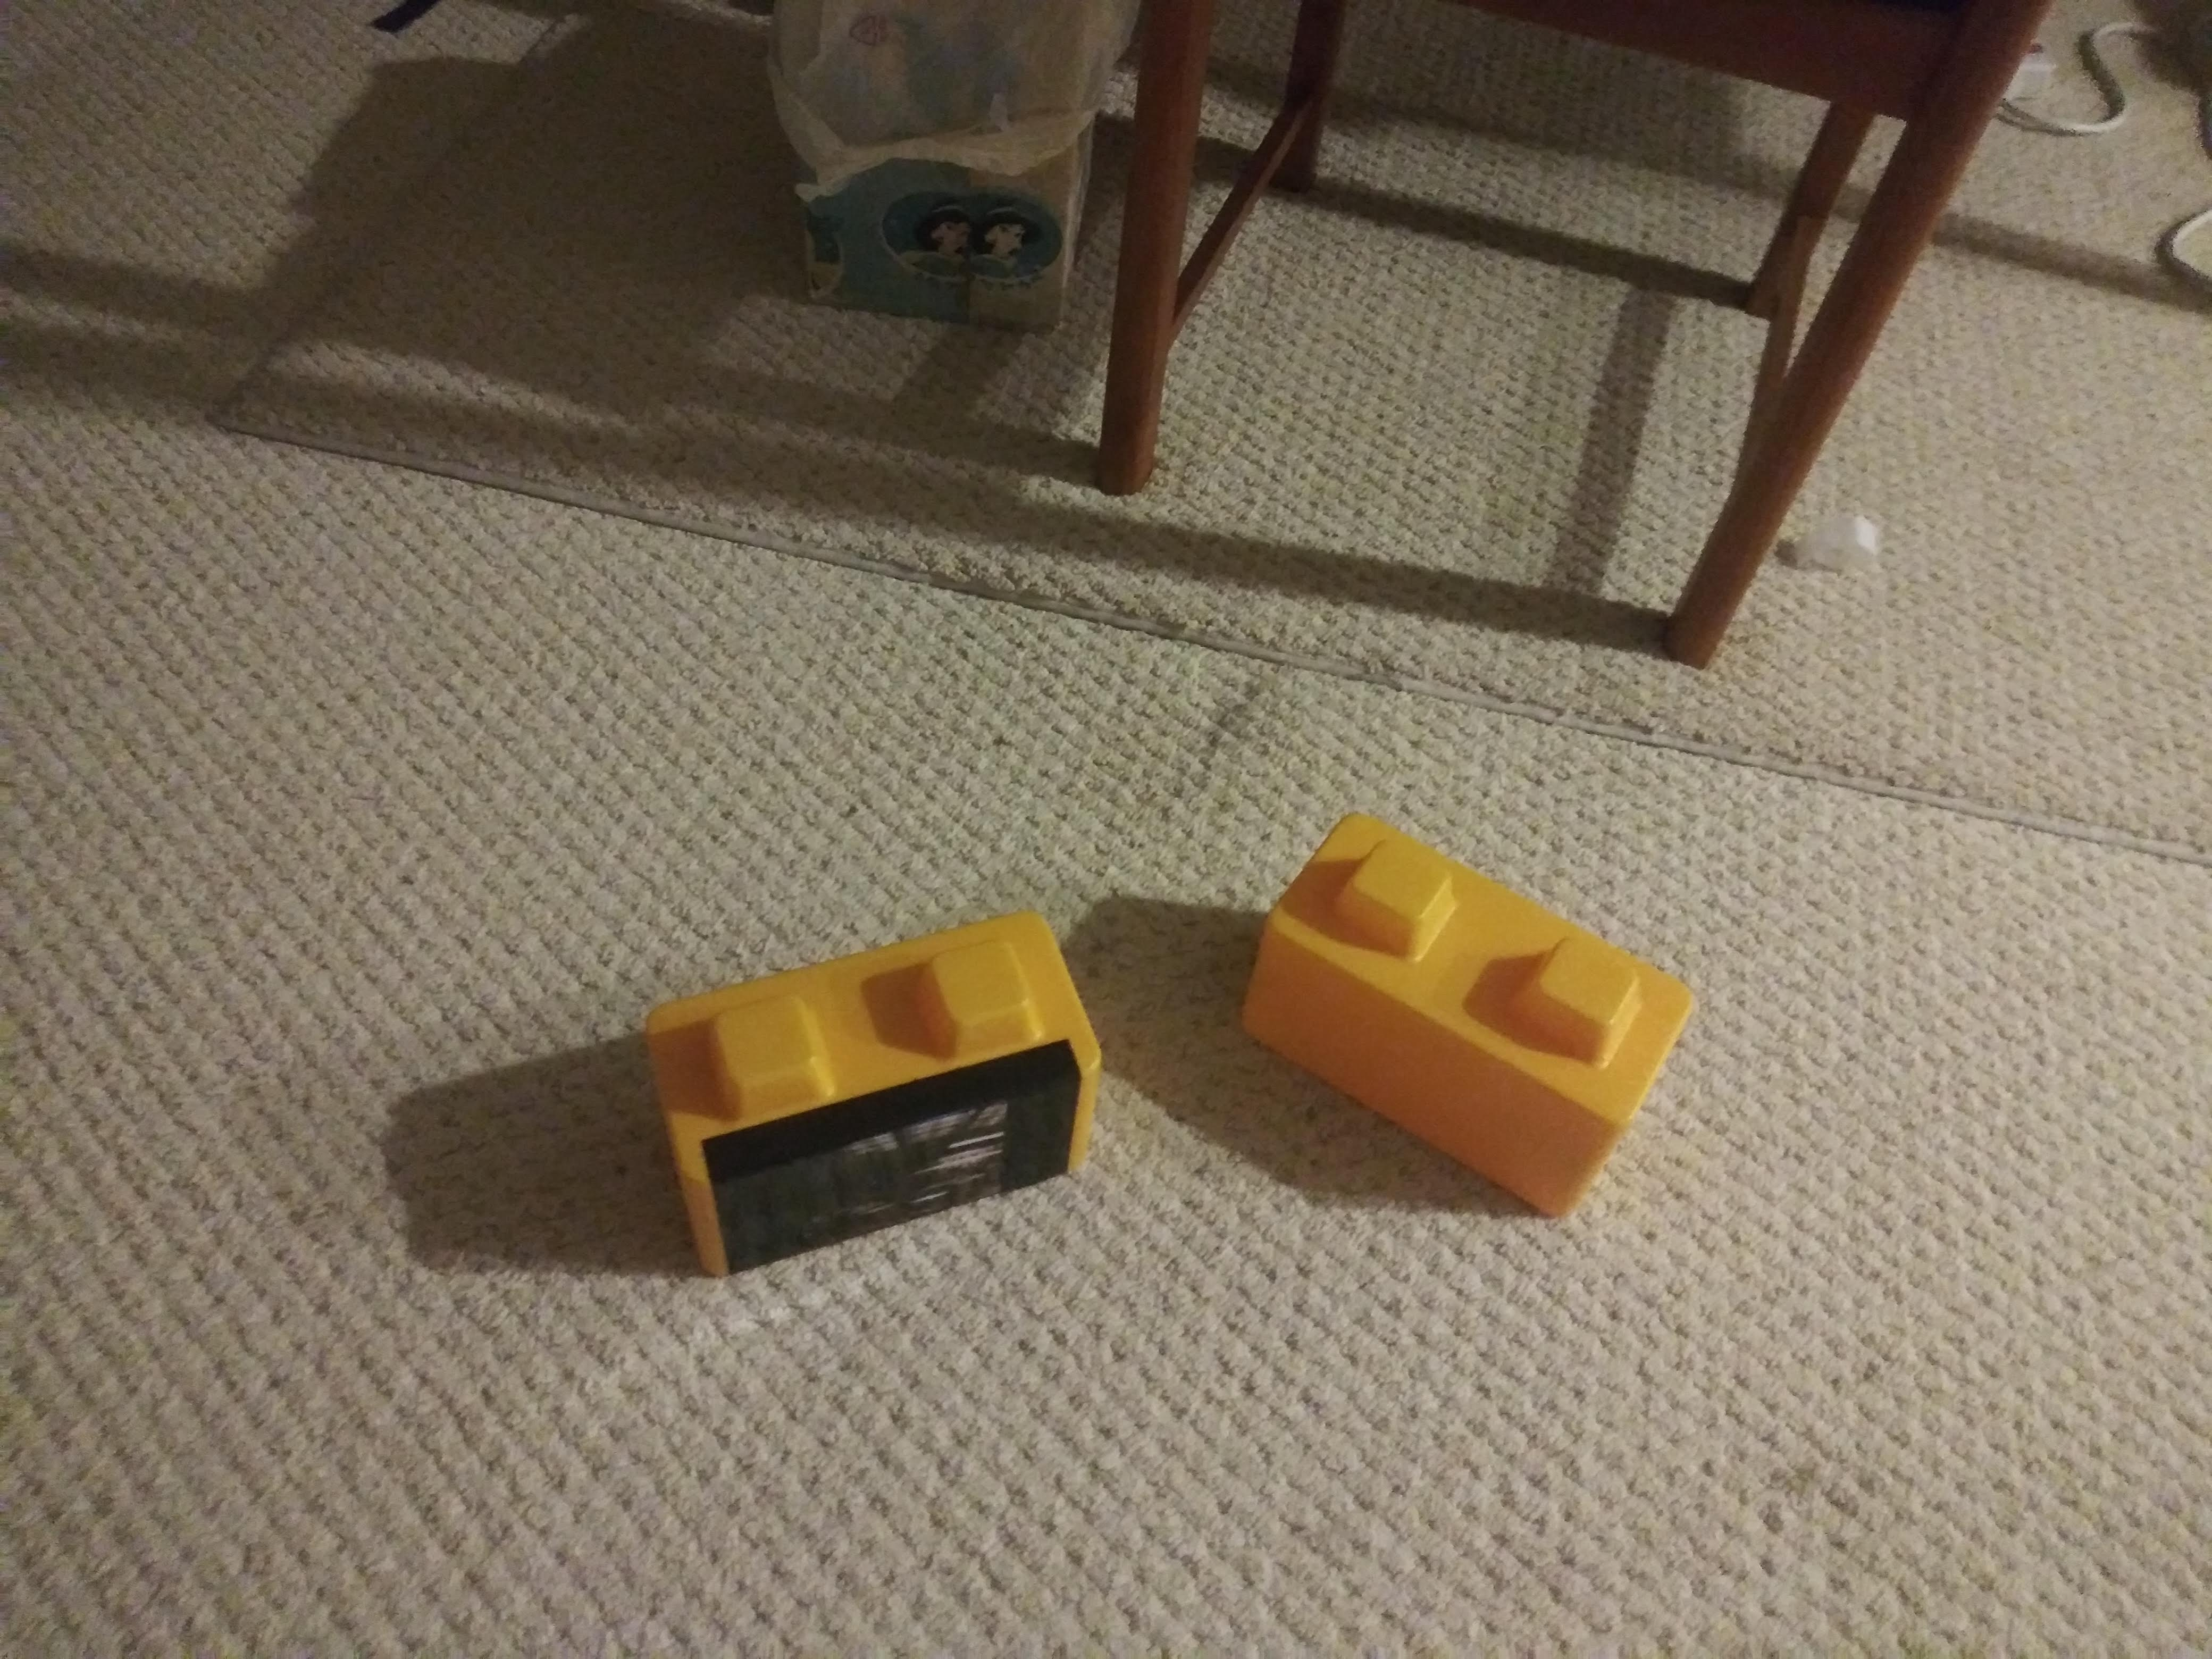skystone: (667, 978, 1094, 1239)
stone: (1268, 833, 1669, 1195)
